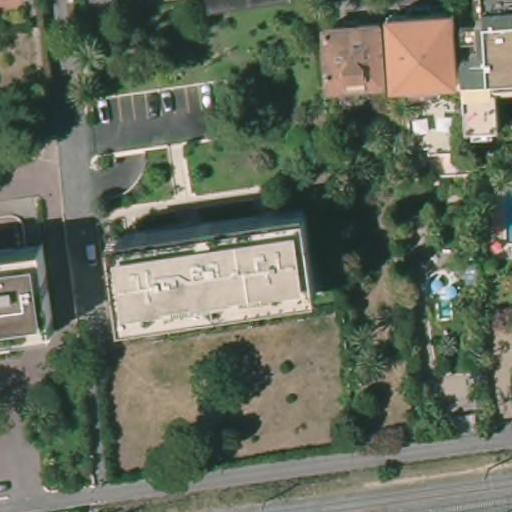pool: (432, 293, 458, 322)
